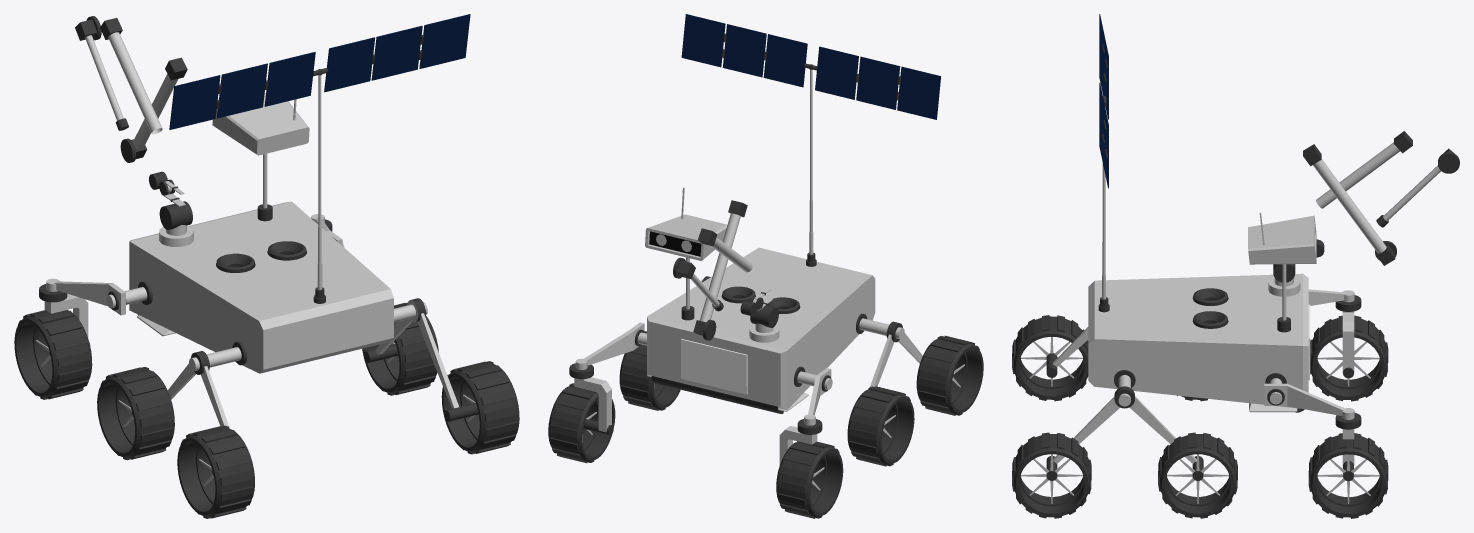
File: roboter.obj
3 views of the same model, side by side, from view 1: azimuth 30°, elevation 25°; view 2: azimuth 150°, elevation 25°; view 3: azimuth 270°, elevation 25° (orthographic). The views are drawn at different scales.
Parts seen in each view (by area): view 1: Cube.001_Cube, Circle.002, Cube.003_Cube.004; view 2: Cube.001_Cube, Circle.002, Cube.003_Cube.004; view 3: Cube.001_Cube, Circle.002, Cube.003_Cube.004.
Boxes of the visible parts, left/top/right/bottom form: Cube.001_Cube: left=129, top=14, right=470, bottom=373; Circle.002: left=14, top=214, right=519, bottom=518; Cube.003_Cube.004: left=75, top=16, right=193, bottom=246; Cube.001_Cube: left=645, top=14, right=940, bottom=413; Circle.002: left=548, top=276, right=983, bottom=518; Cube.003_Cube.004: left=673, top=200, right=779, bottom=342; Cube.001_Cube: left=1088, top=14, right=1316, bottom=412; Circle.002: left=1012, top=289, right=1388, bottom=518; Cube.003_Cube.004: left=1268, top=131, right=1459, bottom=296.
Size of the model in its own units: 0.9839 by 1.28 by 1.39.
